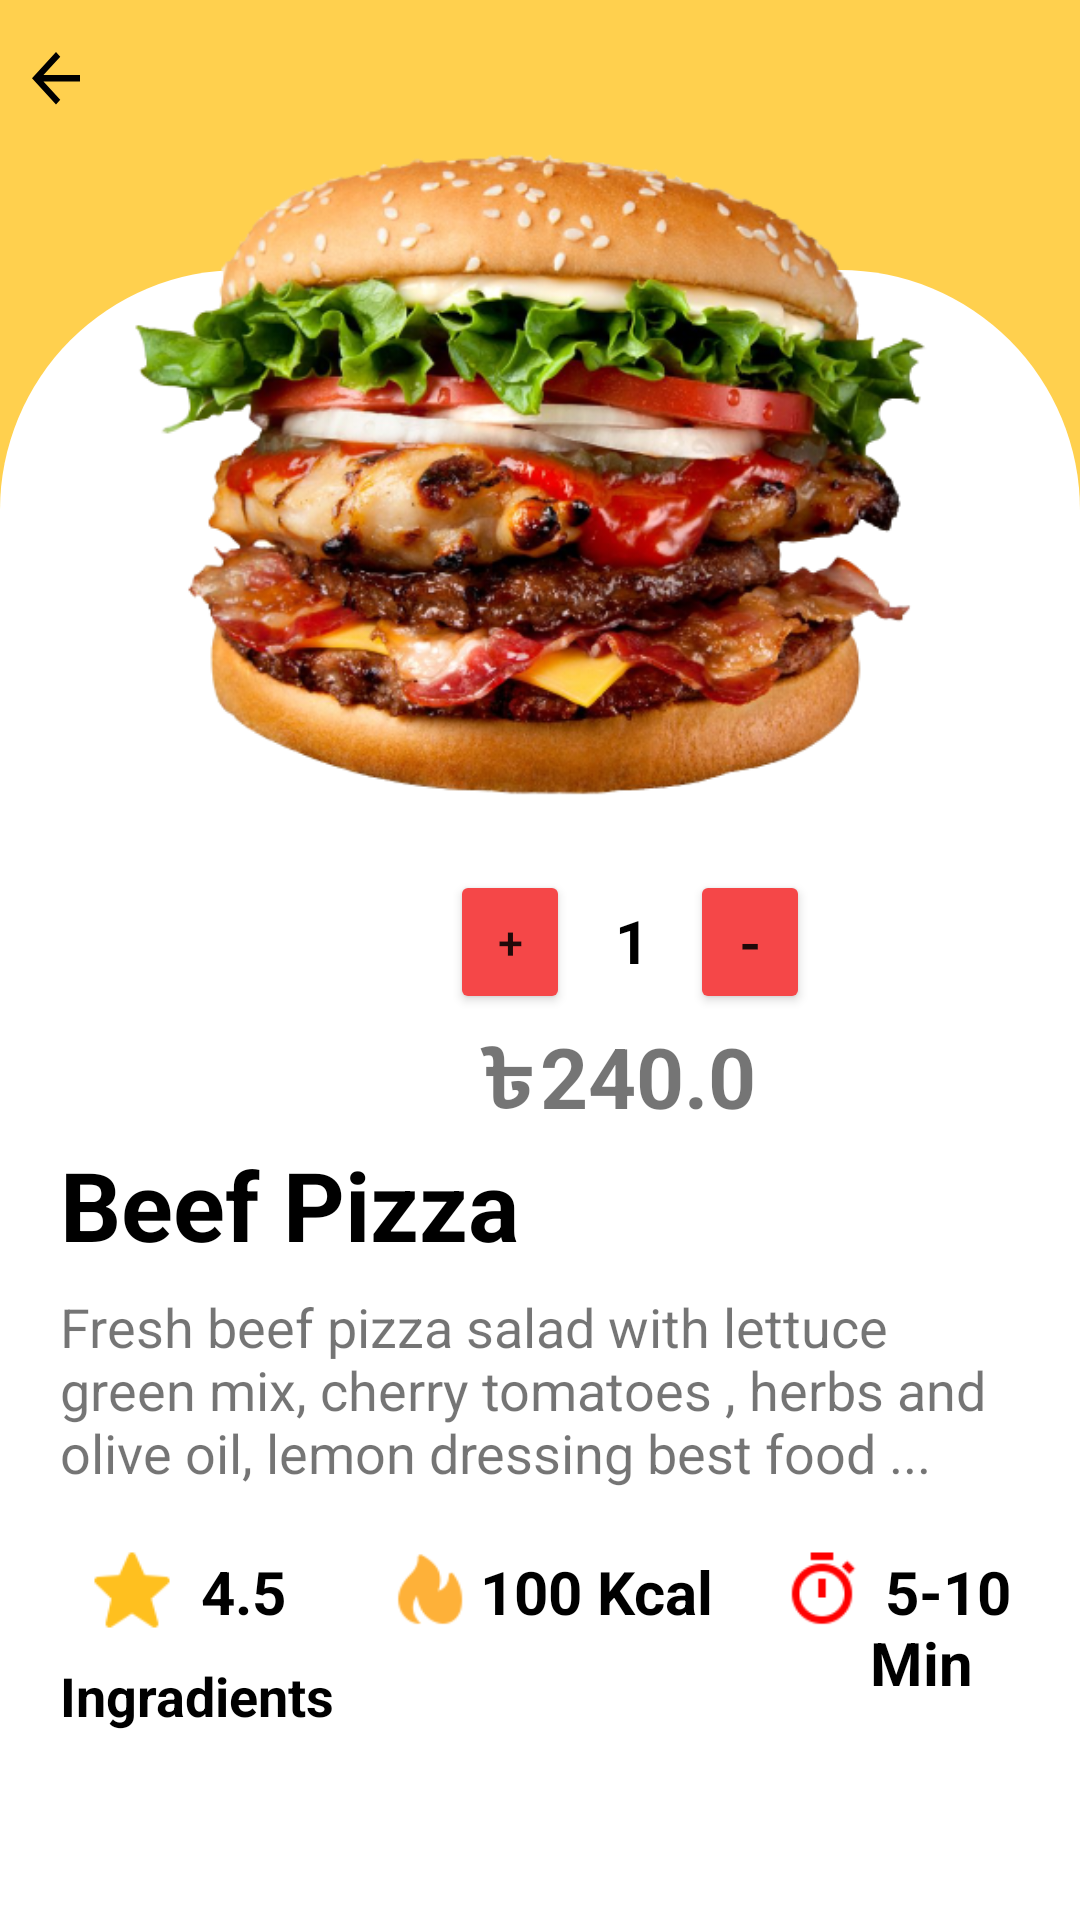

Named icons in this screenshot (1080w x 1920h) and their centers, (x,y):
arrow back vt: (56,78)
star: (132,1590)
watch: (823,1588)
